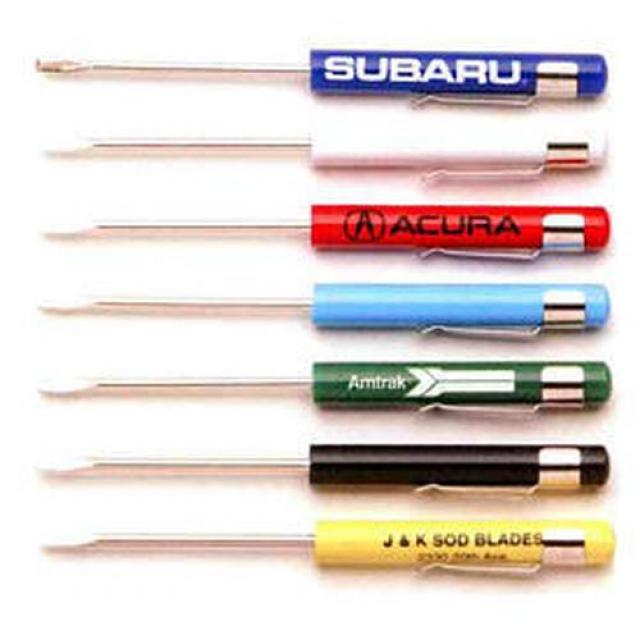screwdriver: (26, 428, 616, 514), (30, 192, 620, 274), (19, 41, 622, 120), (36, 346, 616, 418), (37, 118, 616, 190), (23, 275, 612, 342), (33, 518, 624, 580)
